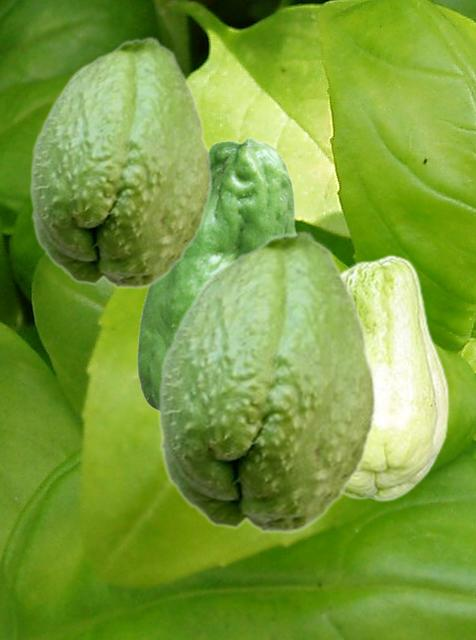sayote: (157, 229, 377, 534), (29, 35, 212, 289), (136, 136, 297, 412), (342, 254, 448, 501)
